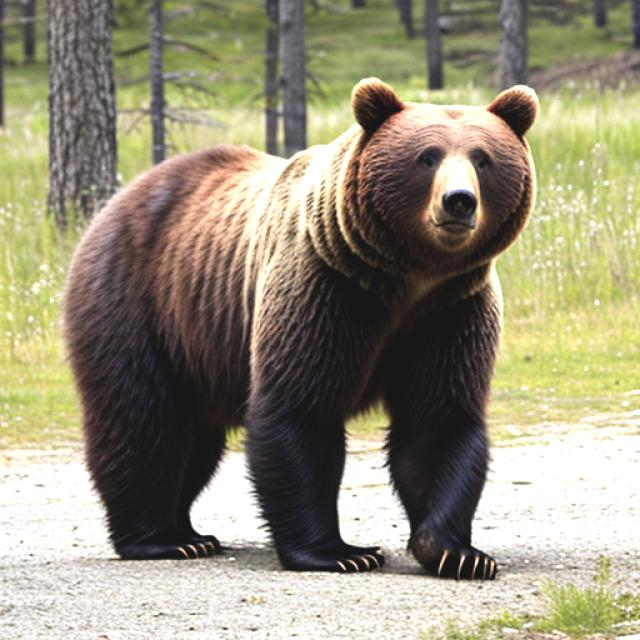bear: (84, 93, 546, 584)
